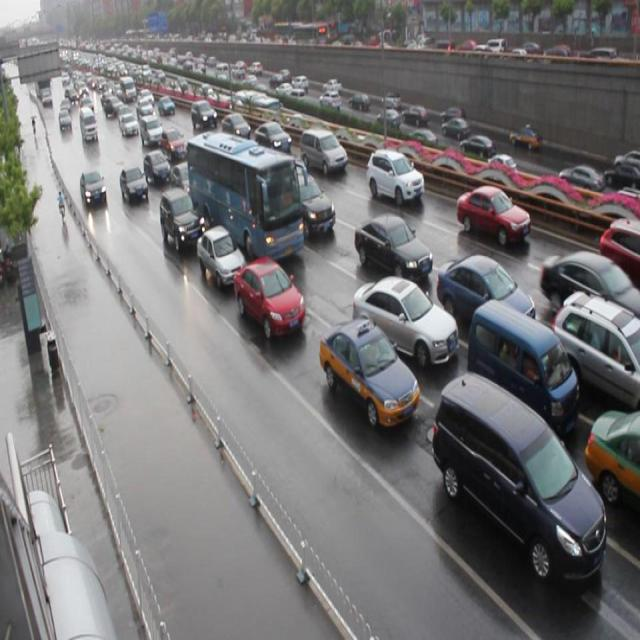car: (317, 318, 419, 427), (550, 291, 640, 411), (351, 276, 456, 372), (434, 253, 532, 337), (538, 250, 640, 330), (582, 411, 640, 518), (231, 256, 304, 338), (354, 212, 432, 280), (455, 184, 530, 247), (365, 148, 424, 205), (597, 216, 640, 291), (196, 224, 246, 288), (158, 188, 203, 252), (292, 172, 336, 236), (254, 120, 291, 156), (119, 165, 149, 204), (80, 170, 107, 208), (144, 150, 171, 185), (170, 162, 193, 200), (222, 112, 251, 140)
truck: (430, 374, 604, 584), (464, 298, 576, 429), (300, 126, 348, 175)
van: (186, 132, 302, 264)
